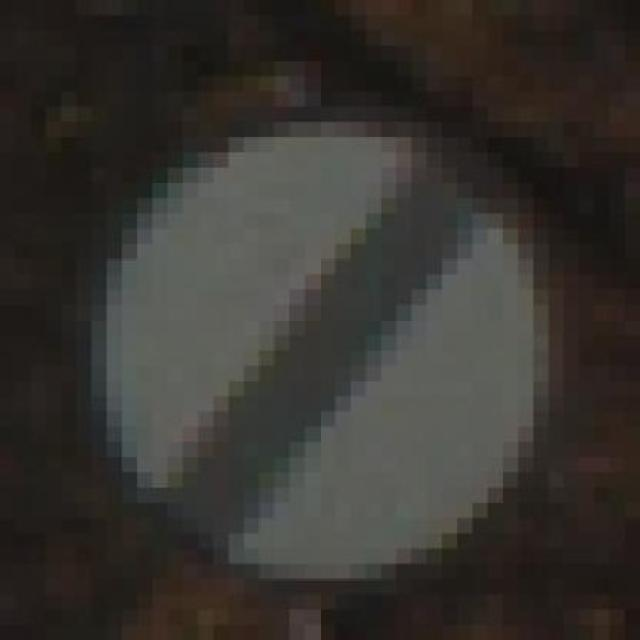End of all speed and passing limits: (89, 76, 562, 579)
